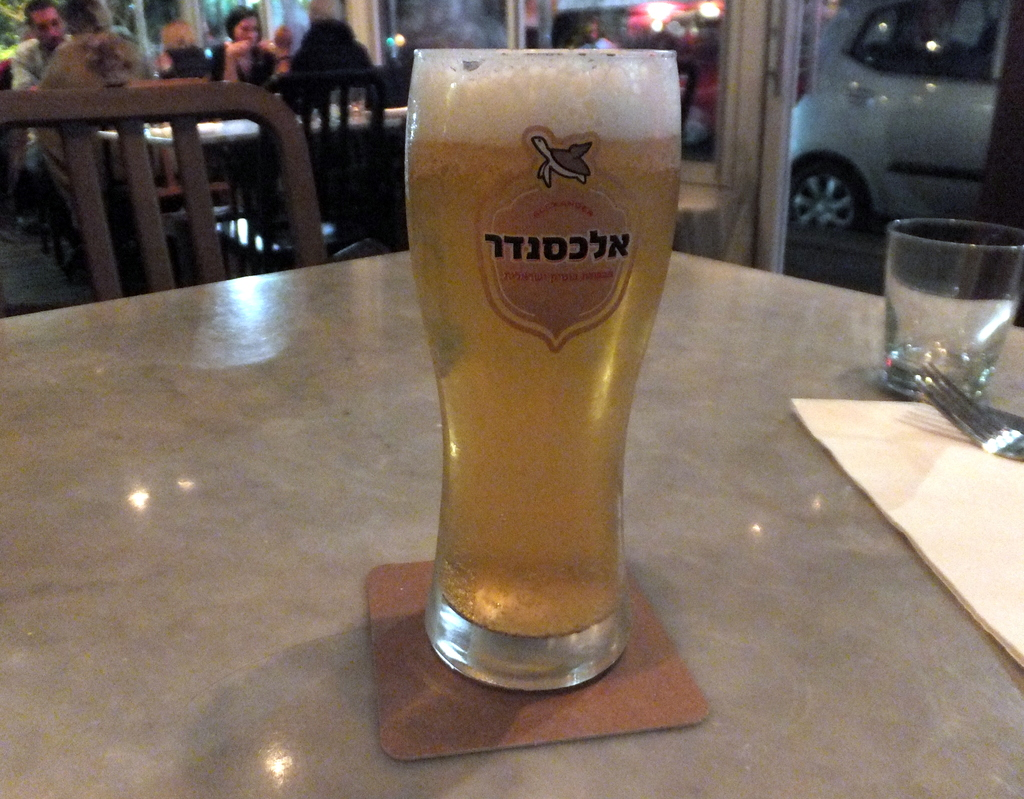Beer: (405, 37, 686, 715)
